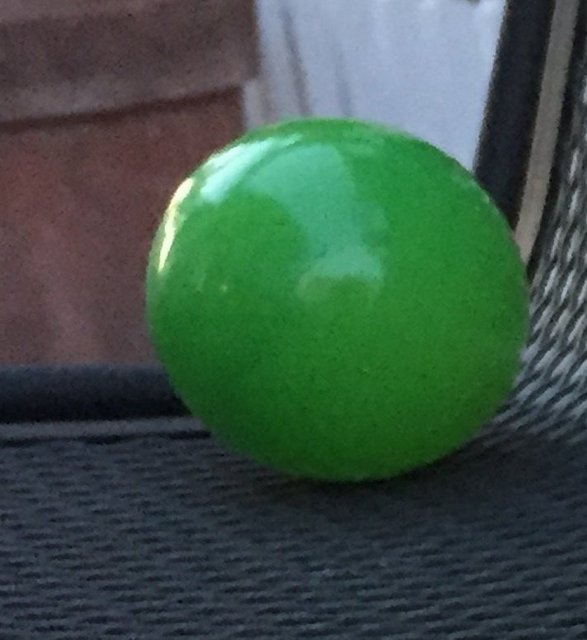Ball: (145, 119, 528, 477)
